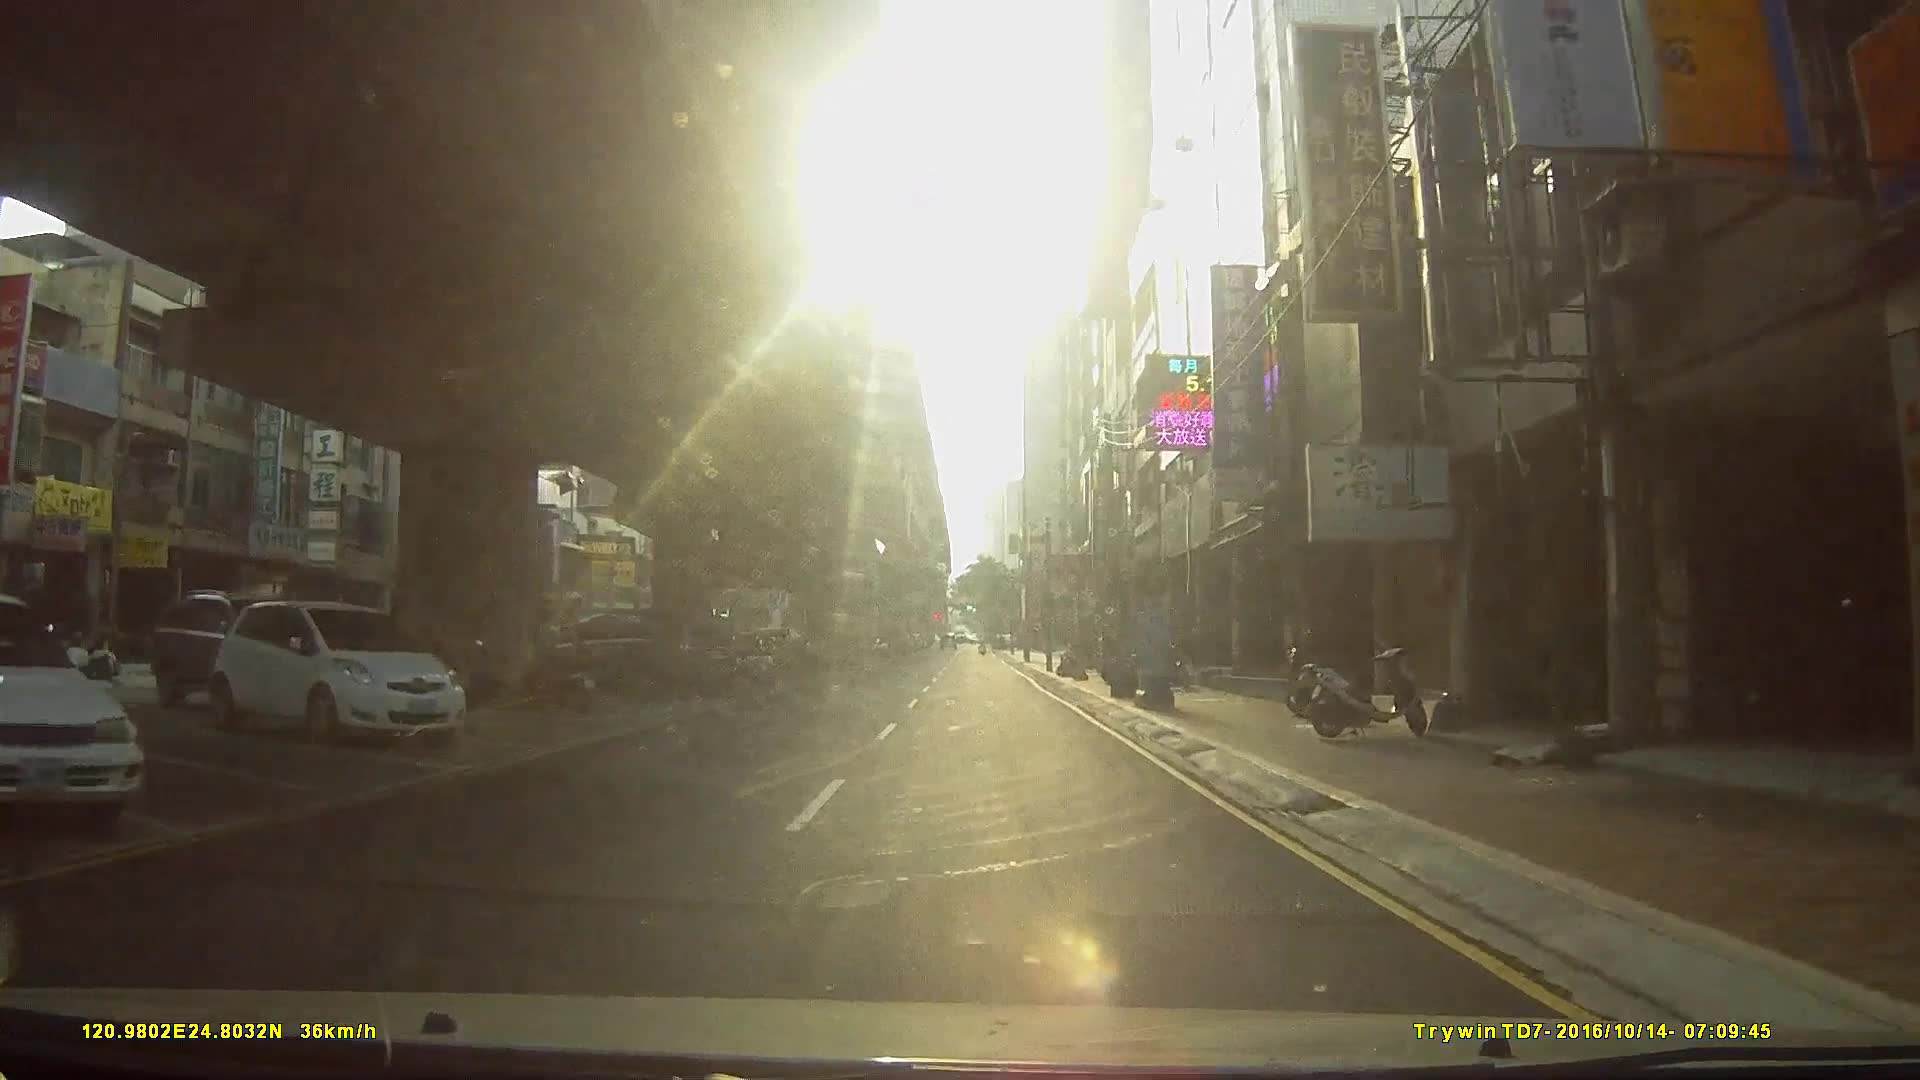vehicle: (206, 599, 467, 749), (0, 592, 146, 837), (145, 591, 306, 704)
